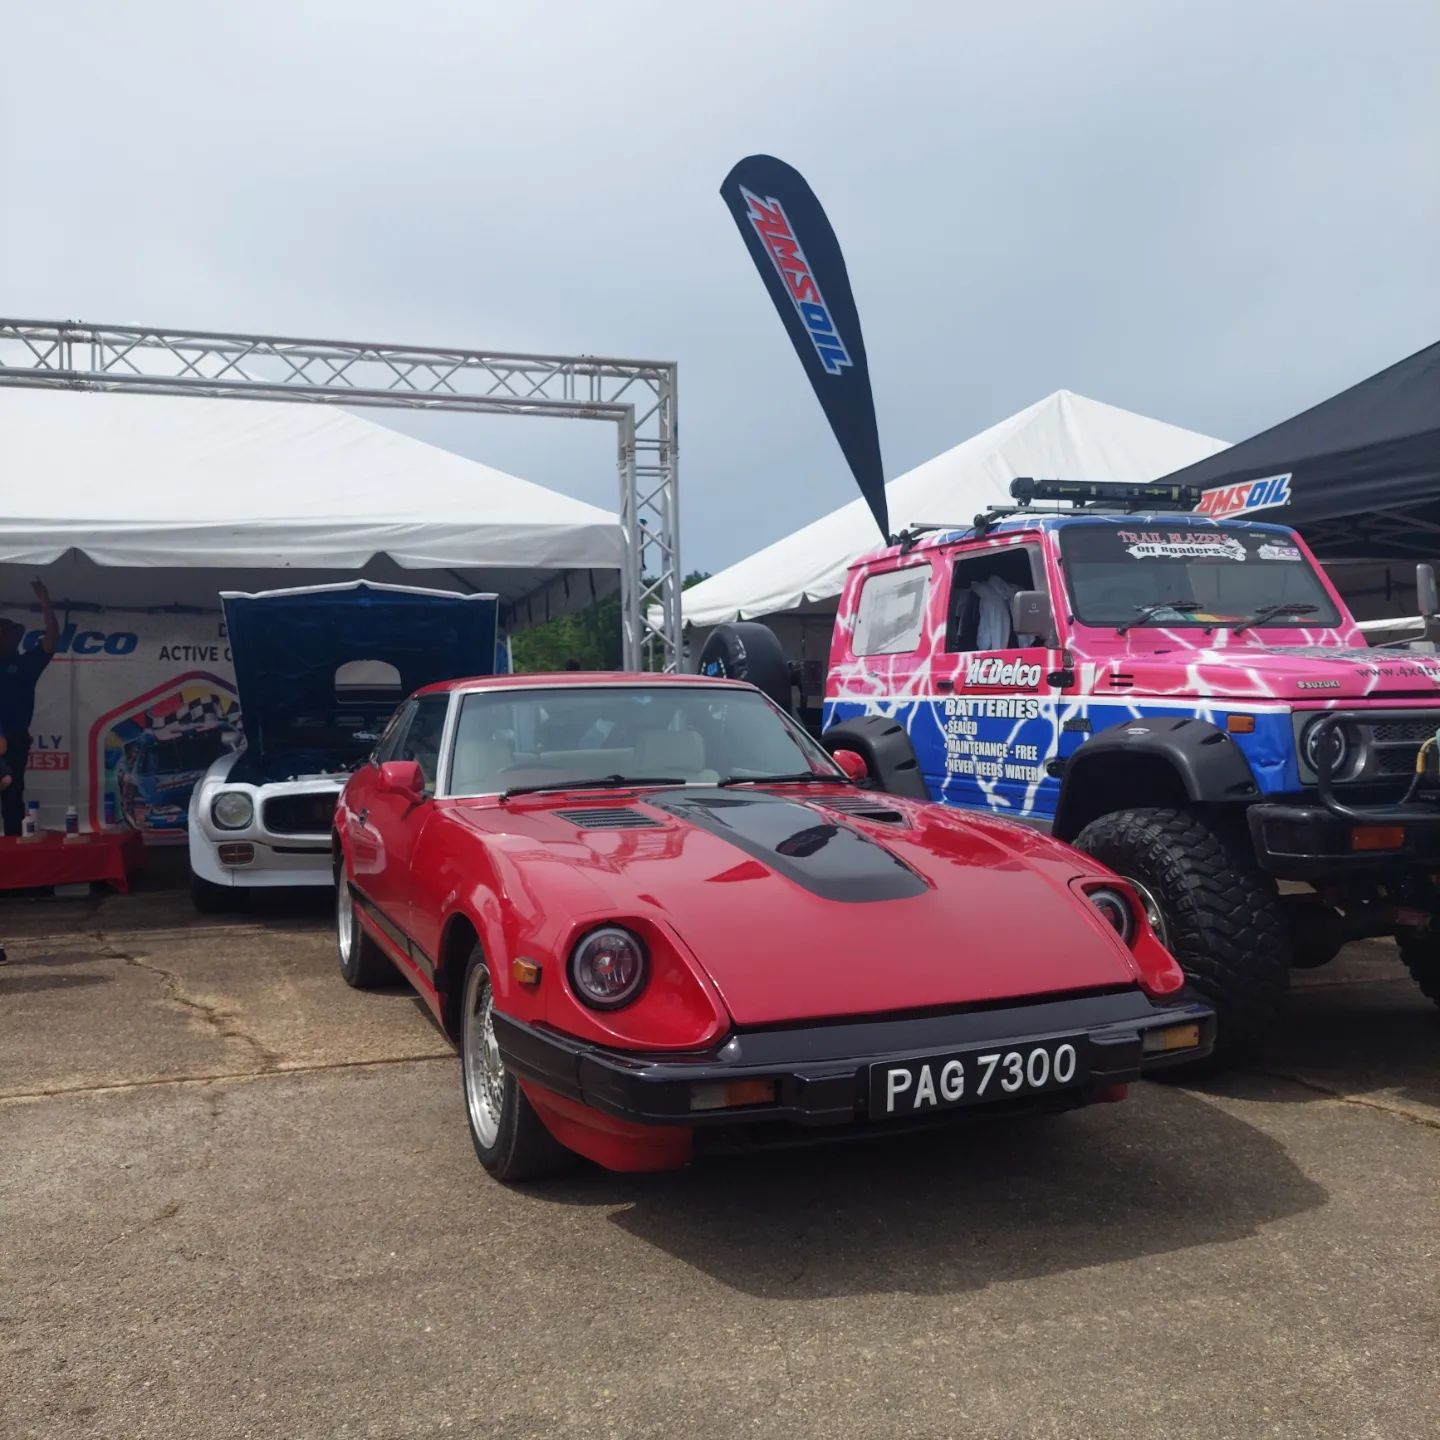License-Plate: (870, 1067, 1087, 1117)
